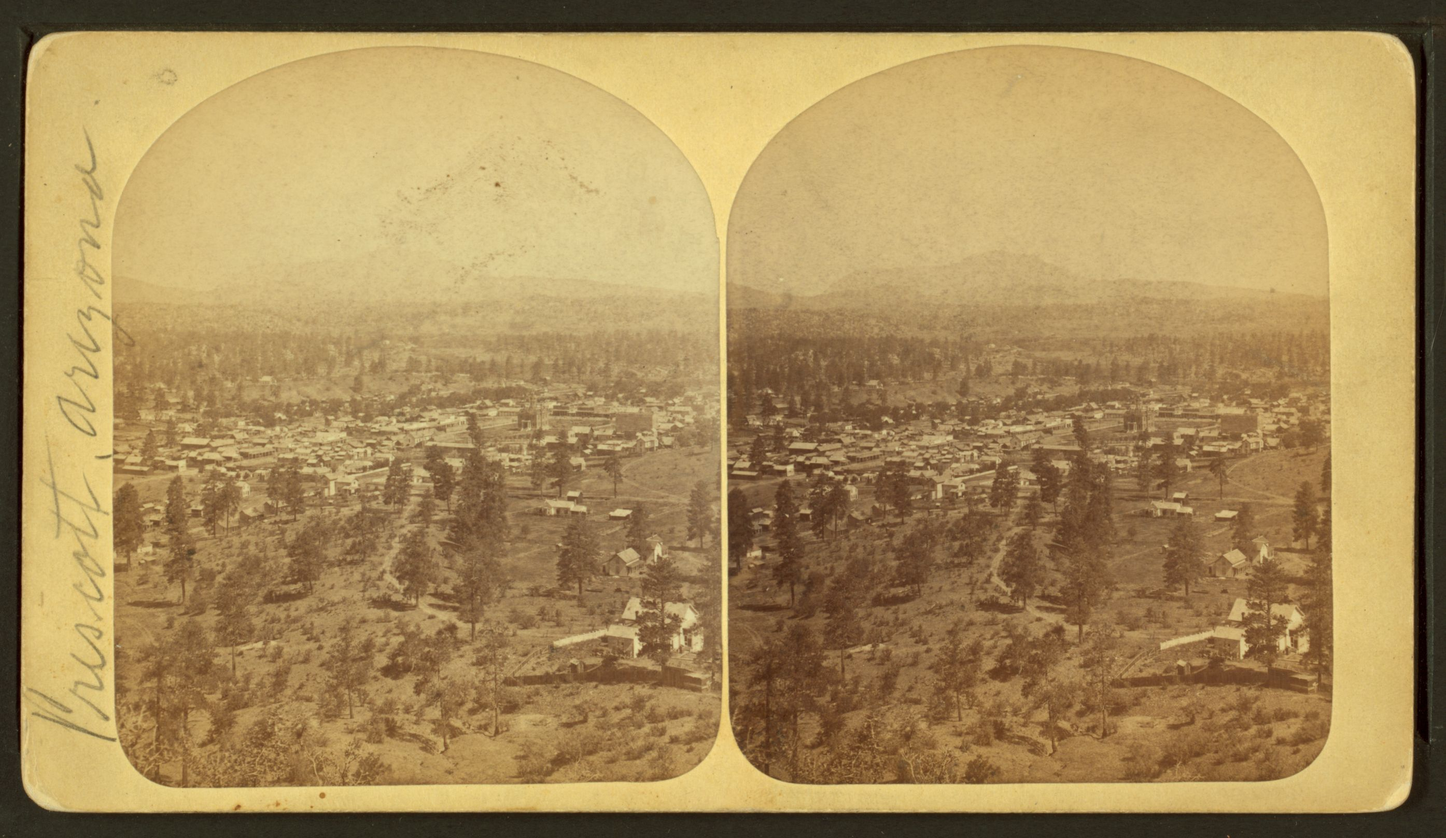half_image: (114, 47, 722, 788), (727, 46, 1333, 785)
